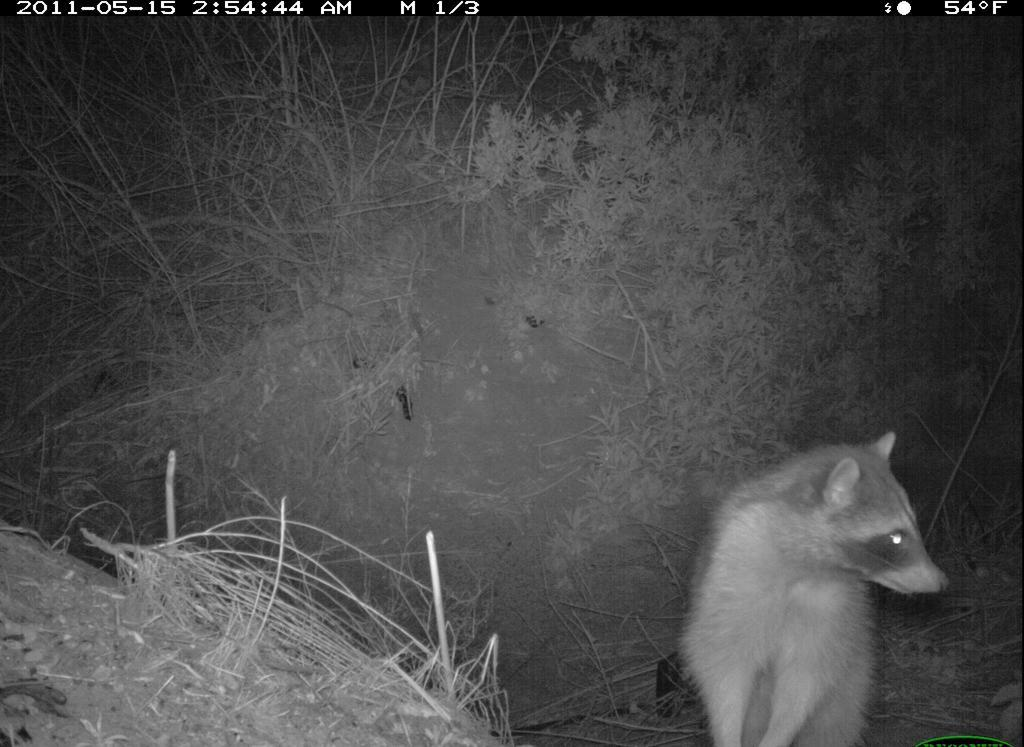raccoon: (674, 423, 953, 740)
